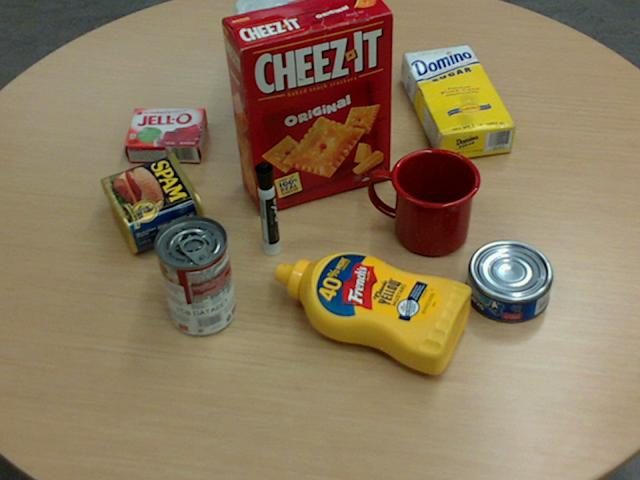cracker_box: (221, 0, 393, 212)
gelatin_box: (122, 106, 206, 162)
large_marker: (253, 161, 281, 256)
master_chef_can: (234, 0, 324, 127)
mug: (369, 147, 480, 255)
mustard_bottle: (273, 252, 471, 373)
potted_meat_can: (101, 150, 207, 252)
sugar_box: (401, 44, 516, 161)
tomato_soup_can: (152, 214, 234, 335)
tuna_fish_can: (465, 239, 553, 322)
